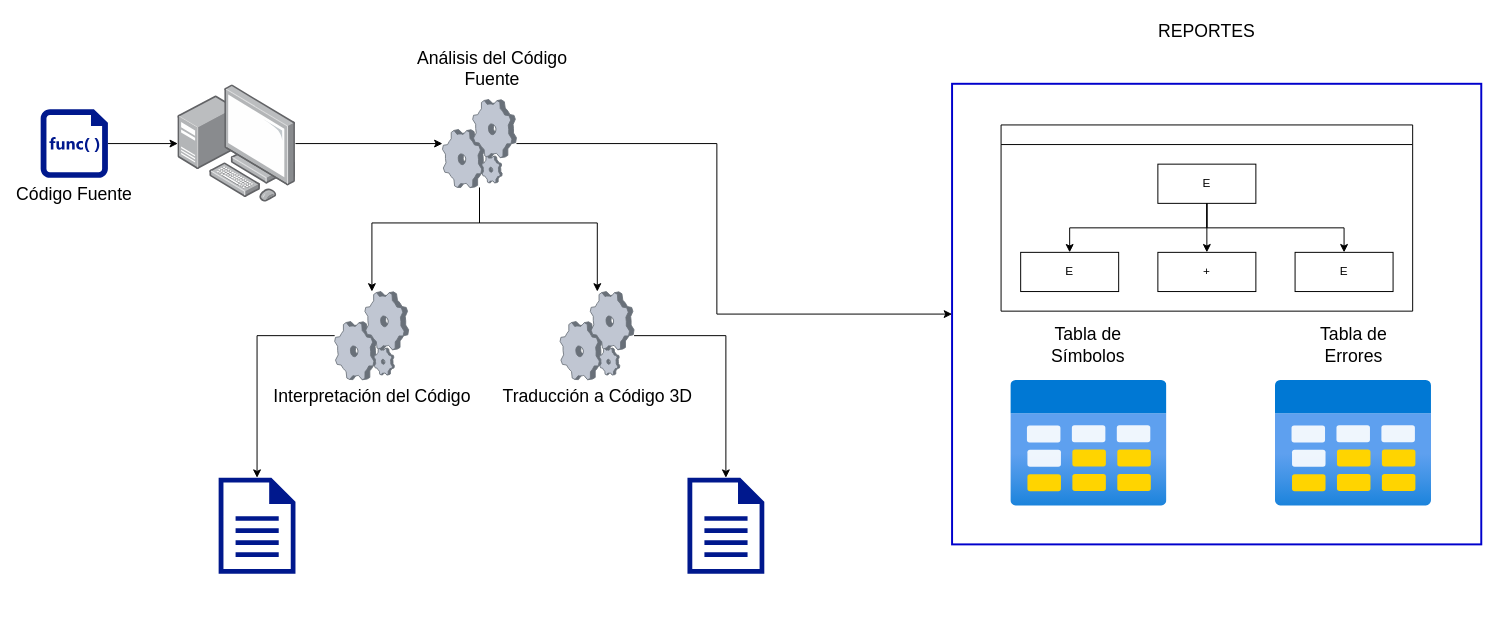
Some shapes in this 1499 by 618 pixel diagram are drawn without their labels. The box of each missing label's shape, as (x1, y1, x2, y2) in pixels:
AST: (1000, 124, 1413, 311)
Salida de la ejecución del programa en la consola: (218, 477, 295, 573)
Salida del código intermedio en consola: (687, 477, 764, 573)
